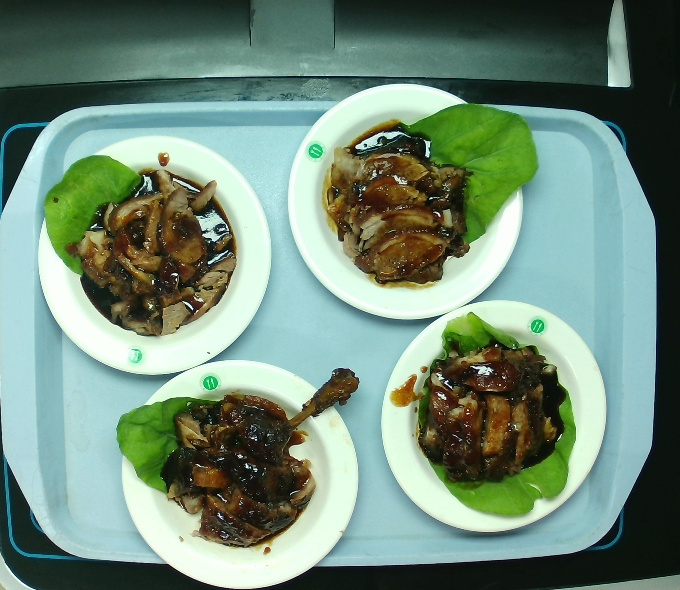wcq-MiZhiYa: (125, 370, 334, 558), (398, 314, 574, 518), (59, 164, 239, 341), (320, 112, 503, 286)
